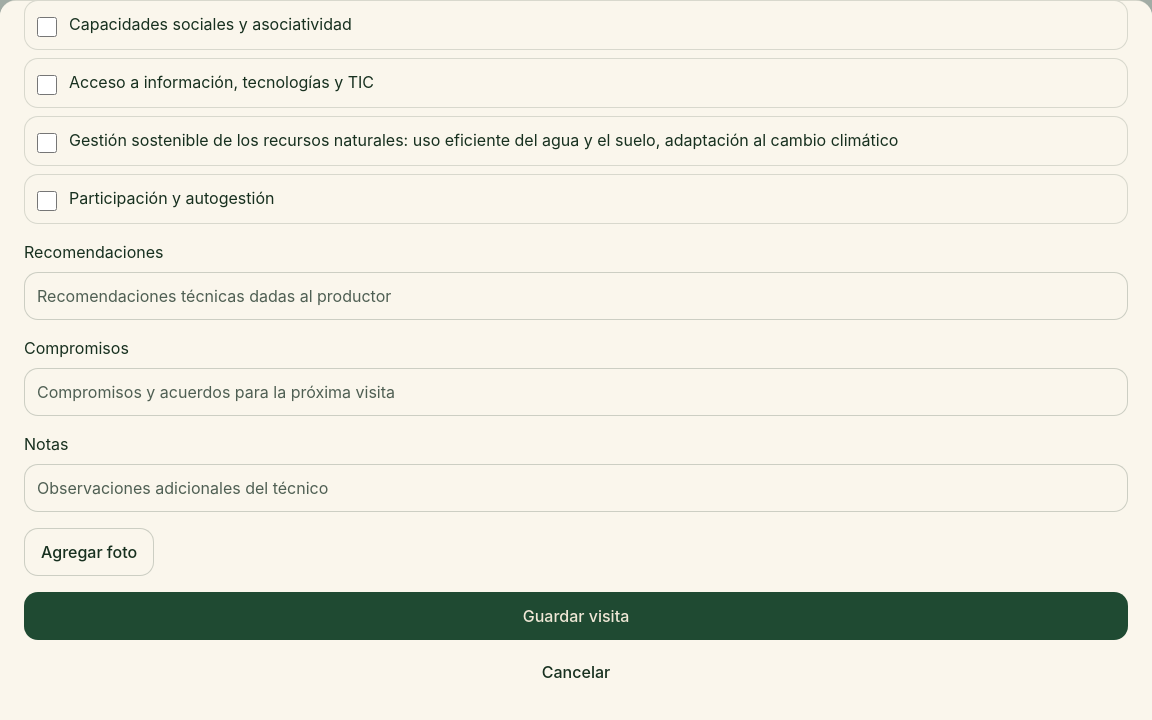
Test: NewVisitSheet › no topic selected → save is blocked with visible field error, and nothing is written
(page scrolled)
# No topic clicked - try to submit
Click the button "Guardar visita".
click(576, 616)  # box [24,592,1128,640]
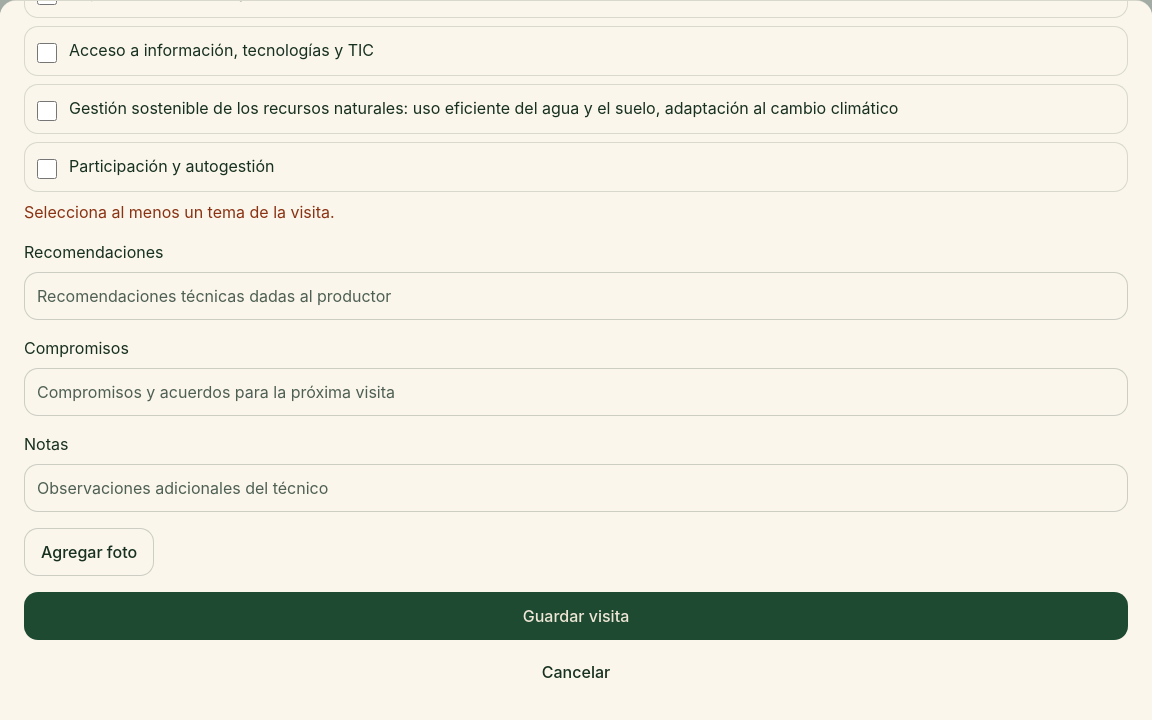
Check: the text "Selecciona al menos un tema de la visita." is shown, box [24,202,335,222]
